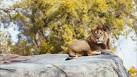lion: (63, 26, 117, 58)
